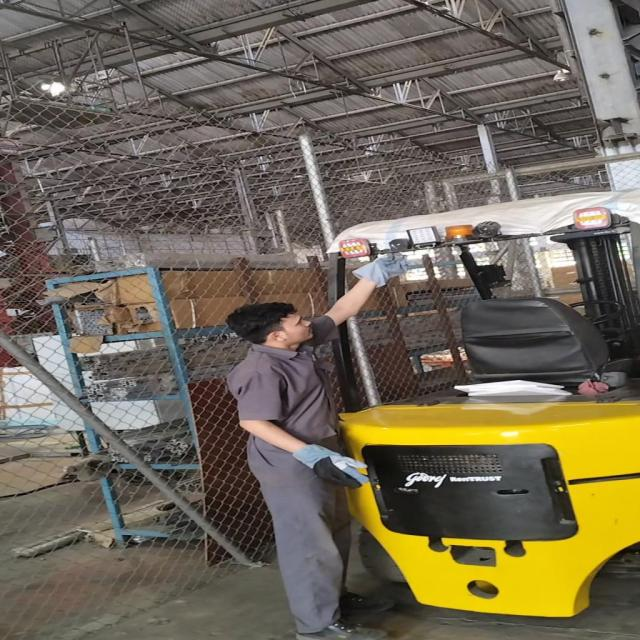Gloves-Detection: (349, 248, 408, 294)
